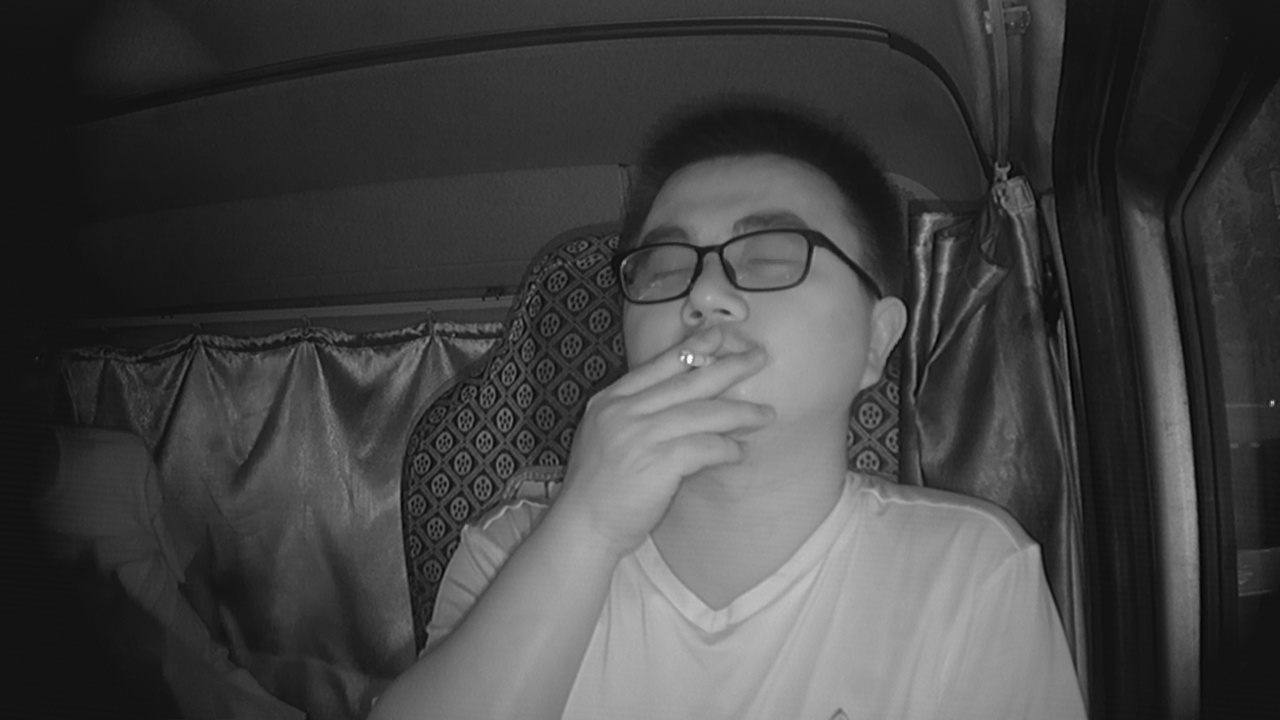hand: (615, 325, 783, 496)
